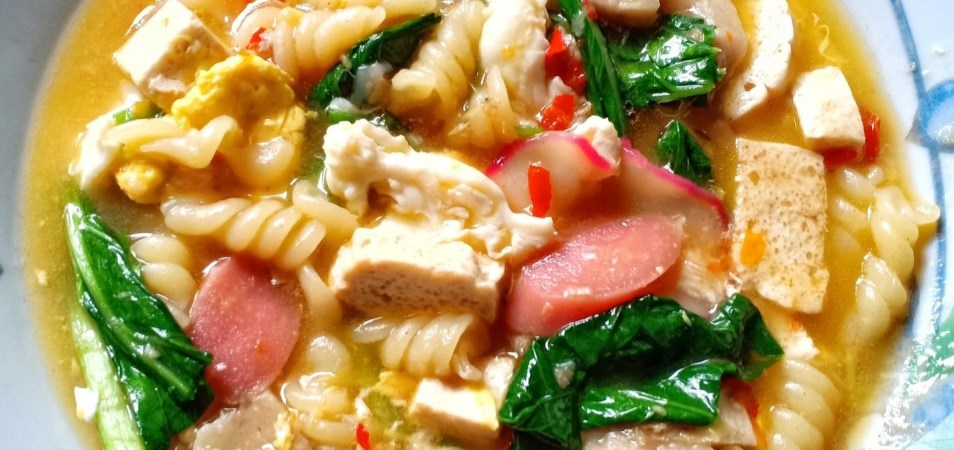seblak: (70, 3, 942, 450)
